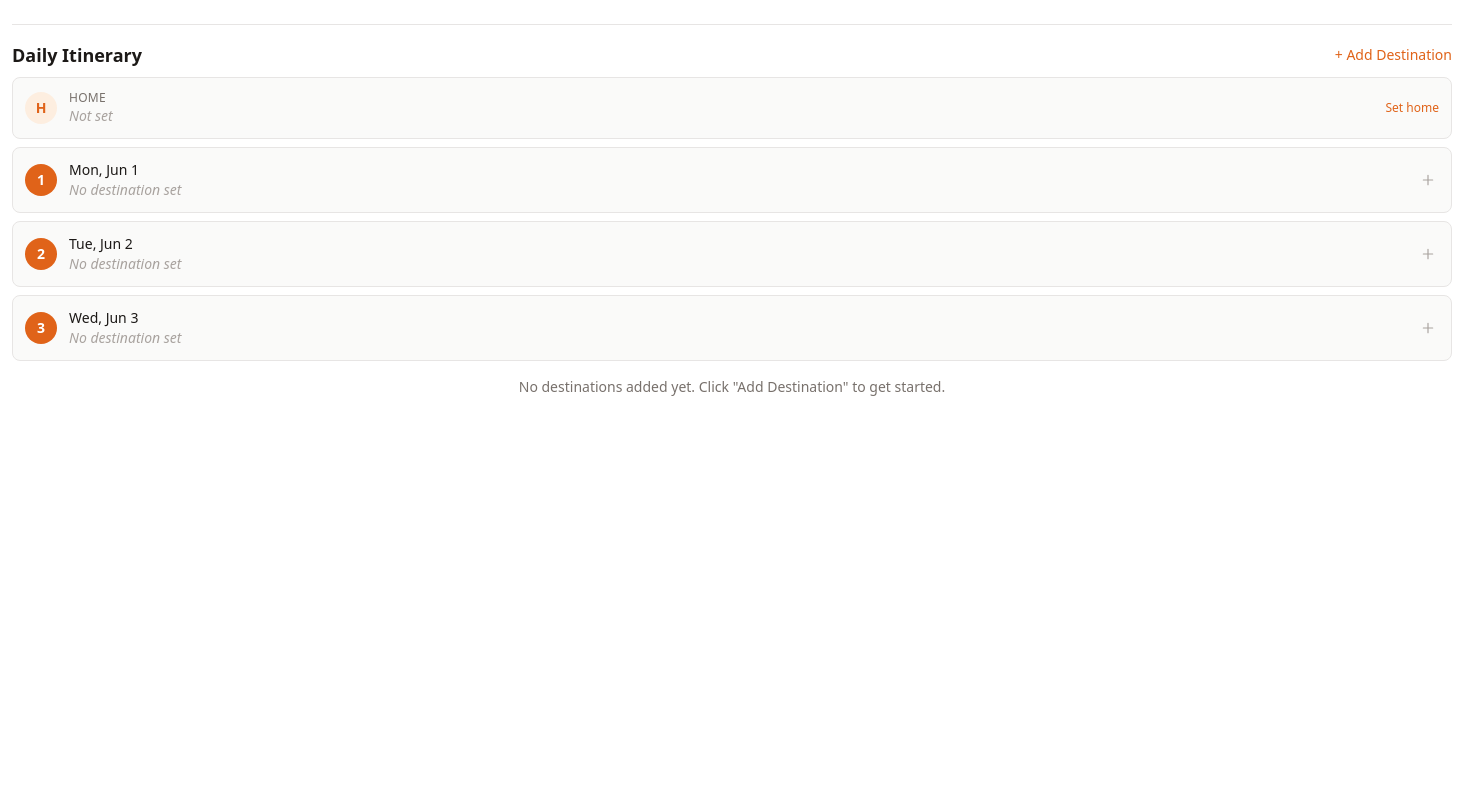
DailyDestinations Component › should show add form when per-day add button is clicked
Note: Click the first per-day add button (this sets addForDate to the day's date)
Click the button titled "Add destination" in the row of "Mon, Jun 1" at (1428, 180), box 1417,169 -> 1439,191
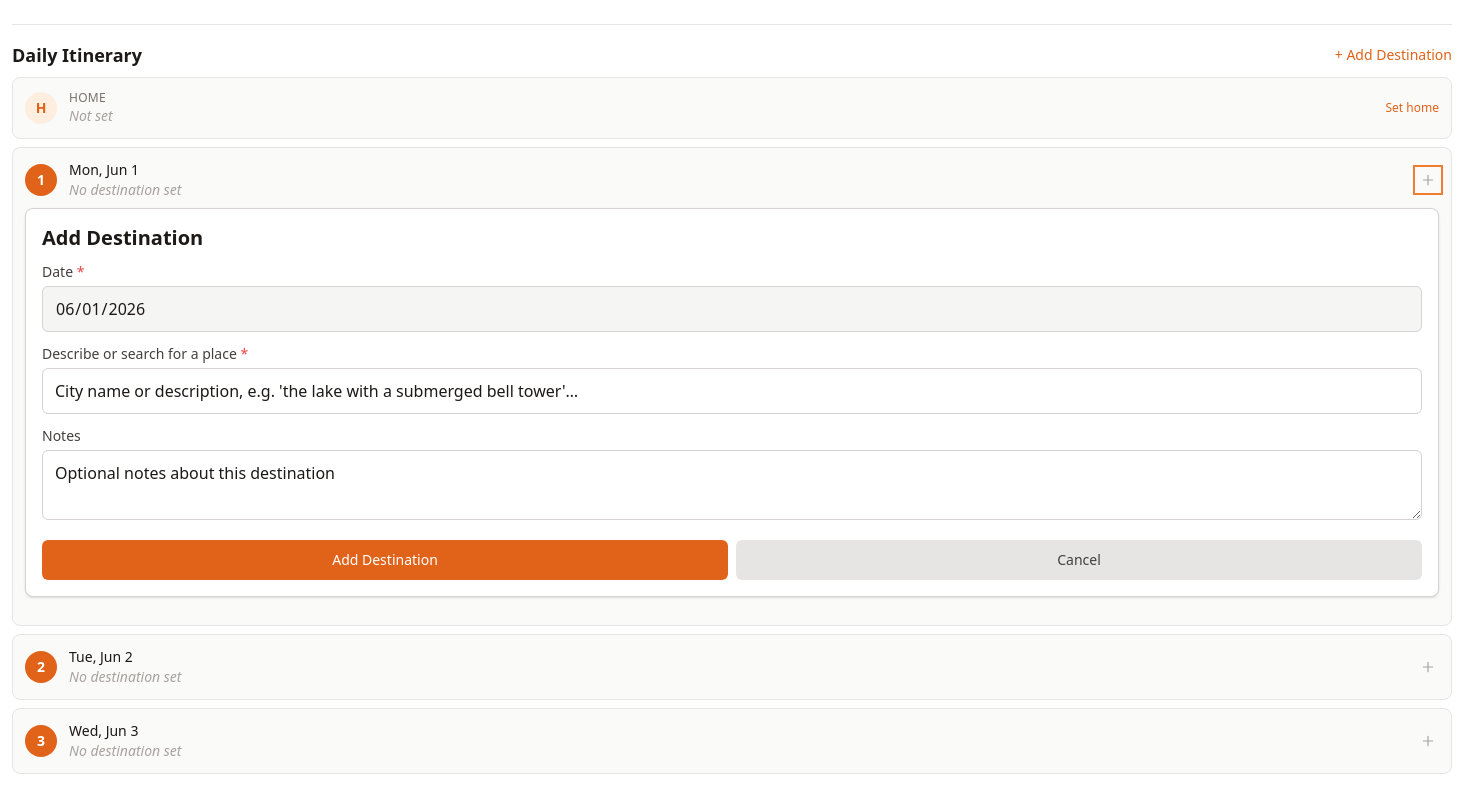
expect the heading "Add Destination" is shown: met, box 42,224 -> 203,251
expect the field labelled "Describe or search for a place *" is shown: met, box 42,368 -> 1422,414
